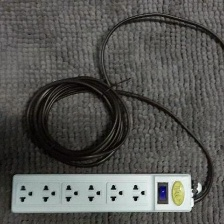three_eye_plug: (6, 169, 198, 216)
